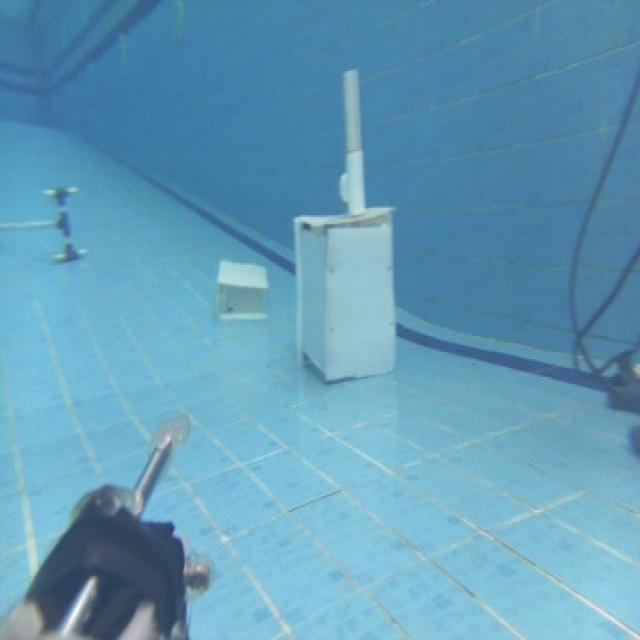Cube: (292, 205, 398, 382)
Cuboid: (216, 258, 269, 320)
